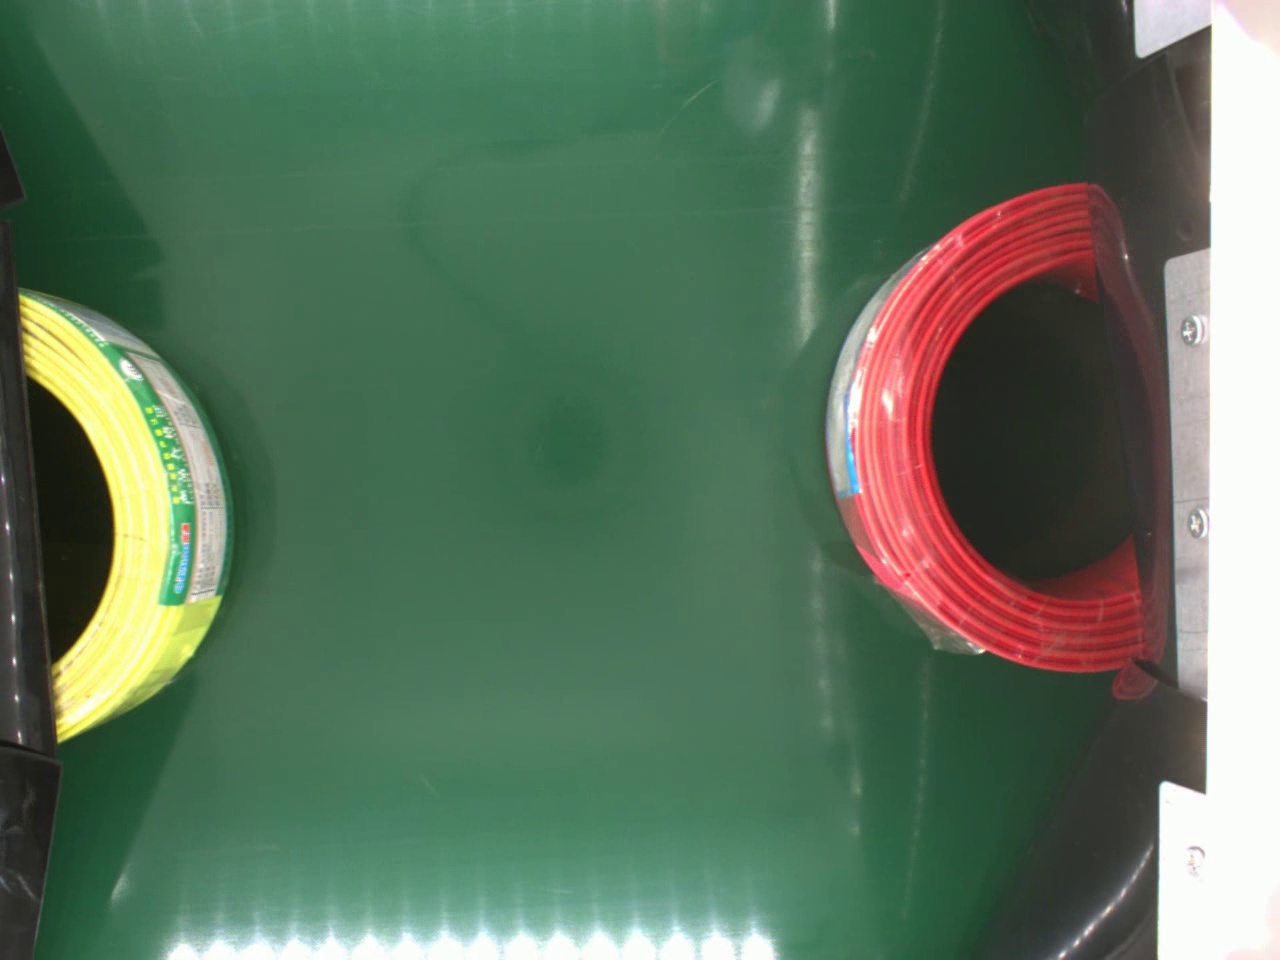red: (825, 179, 1150, 675)
yellow: (18, 288, 240, 747)
